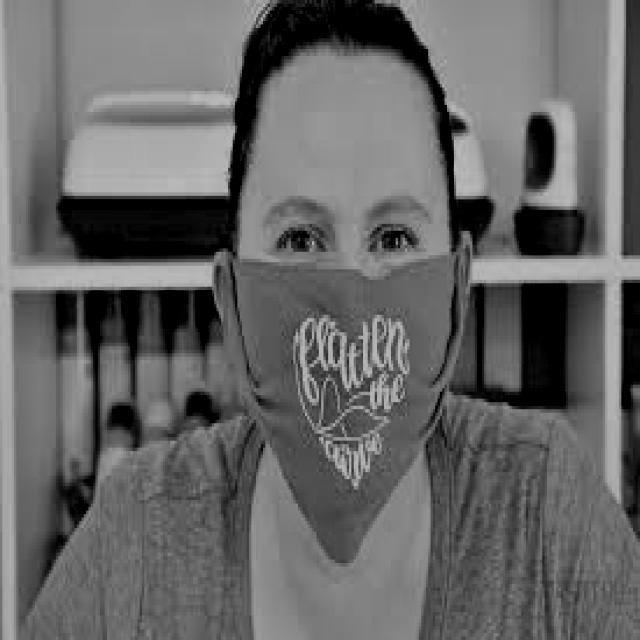fake: (184, 230, 484, 580)
real: (235, 51, 451, 522)
